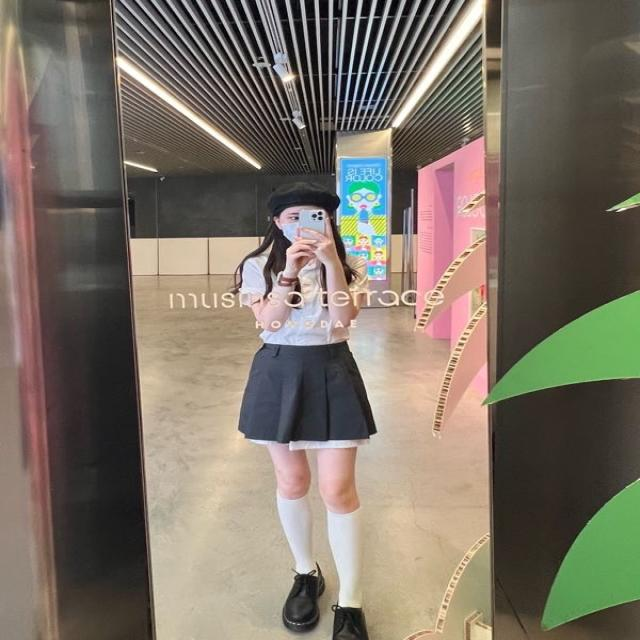shortsleeve: (241, 254, 371, 345)
skirt: (239, 340, 377, 447)
